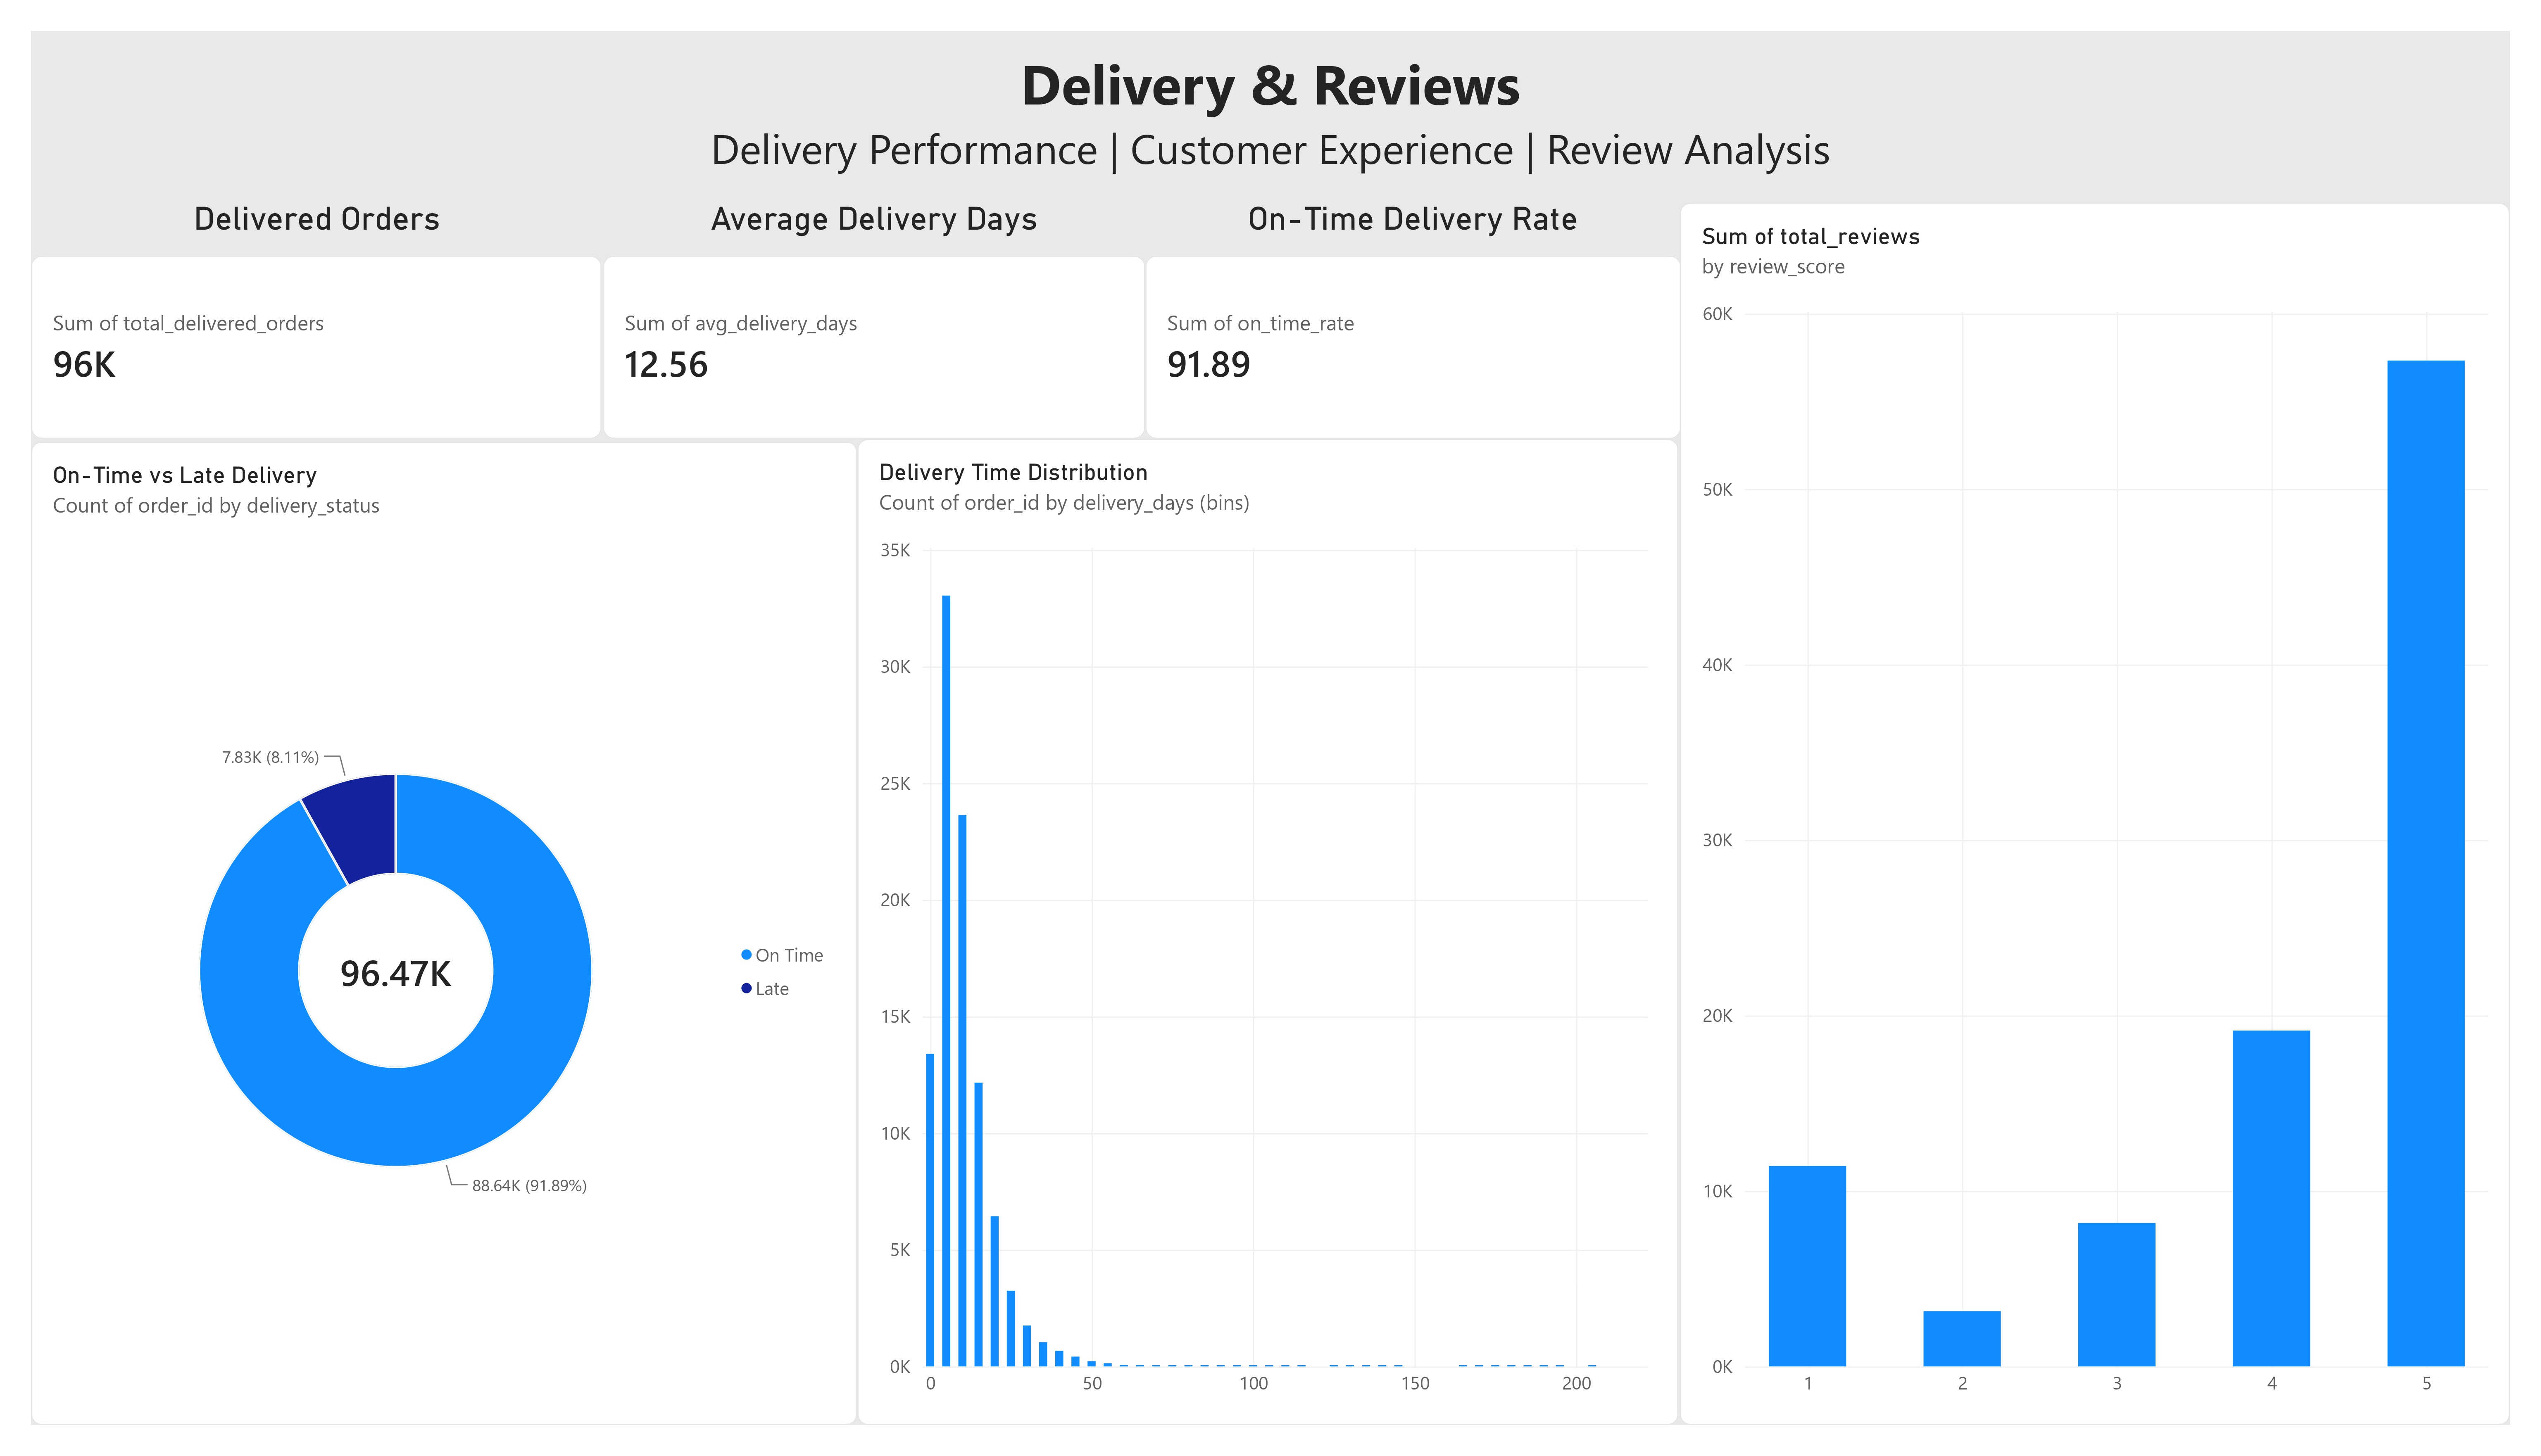

The page's visual inventory and layout, read from the dashboard file:
{"tool":"powerbi","page":{"name":"Delivery & Reviews","canvas":[1920,1080],"ordinal":3},"visuals":[{"type":"cardVisual","title":"Delivered Orders","fields":{"Data":["Sum(analytics pbi_delivery_kpis.total_delivered_orders)"]},"box":[0,130,442.5,186.2],"z":0},{"type":"cardVisual","title":"Average Delivery Days","fields":{"Data":["Sum(analytics pbi_delivery_kpis.avg_delivery_days)"]},"box":[442.5,130,420,186.2],"z":1000},{"type":"cardVisual","title":"On-Time Delivery Rate","fields":{"Data":["Sum(analytics pbi_delivery_kpis.on_time_rate)"]},"box":[862.5,130,415,186.2],"z":2000},{"type":"donutChart","title":"On-Time vs Late Delivery","fields":{"Category":["analytics pbi_delivery_performance.delivery_status"],"Y":["CountNonNull(analytics pbi_delivery_performance.order_id)"]},"box":[0,317.8,640,762.2],"z":3000},{"type":"clusteredColumnChart","title":"Delivery Time Distribution","fields":{"Category":["analytics pbi_delivery_performance.delivery_days (bins)"],"Y":["CountNonNull(analytics pbi_delivery_performance.order_id)"]},"box":[640,316.2,636.2,763.8],"z":4000},{"type":"clusteredColumnChart","fields":{"Category":["analytics pbi_review_performance.review_score"],"Y":["Sum(analytics pbi_review_performance.total_reviews)"]},"box":[1276.7,133.3,643.3,946.7],"z":5000},{"type":"textbox","box":[0,10.9,1920,121.8],"z":6000}]}

Visuals, with their boxes on the page's 1920x1080 design canvas (x1, y1, x2, y2). These are canvas units, not pixel positions in the 2541x1456 screenshot, which may show the page scaled, cropped or inside an application window:
"Delivered Orders" cardVisual: left=0, top=130, right=442, bottom=316
"Average Delivery Days" cardVisual: left=442, top=130, right=862, bottom=316
"On-Time Delivery Rate" cardVisual: left=862, top=130, right=1278, bottom=316
"On-Time vs Late Delivery" donutChart: left=0, top=318, right=640, bottom=1080
"Delivery Time Distribution" clusteredColumnChart: left=640, top=316, right=1276, bottom=1080
clusteredColumnChart - analytics pbi_review_performance.review_score x Sum(analytics pbi_review_performance.total_reviews): left=1277, top=133, right=1920, bottom=1080
textbox: left=0, top=11, right=1920, bottom=133
